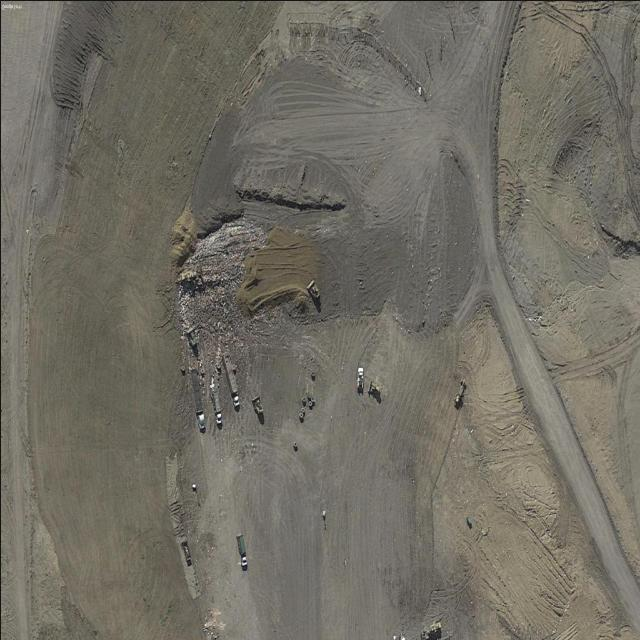dump_site: (169, 219, 267, 362)
